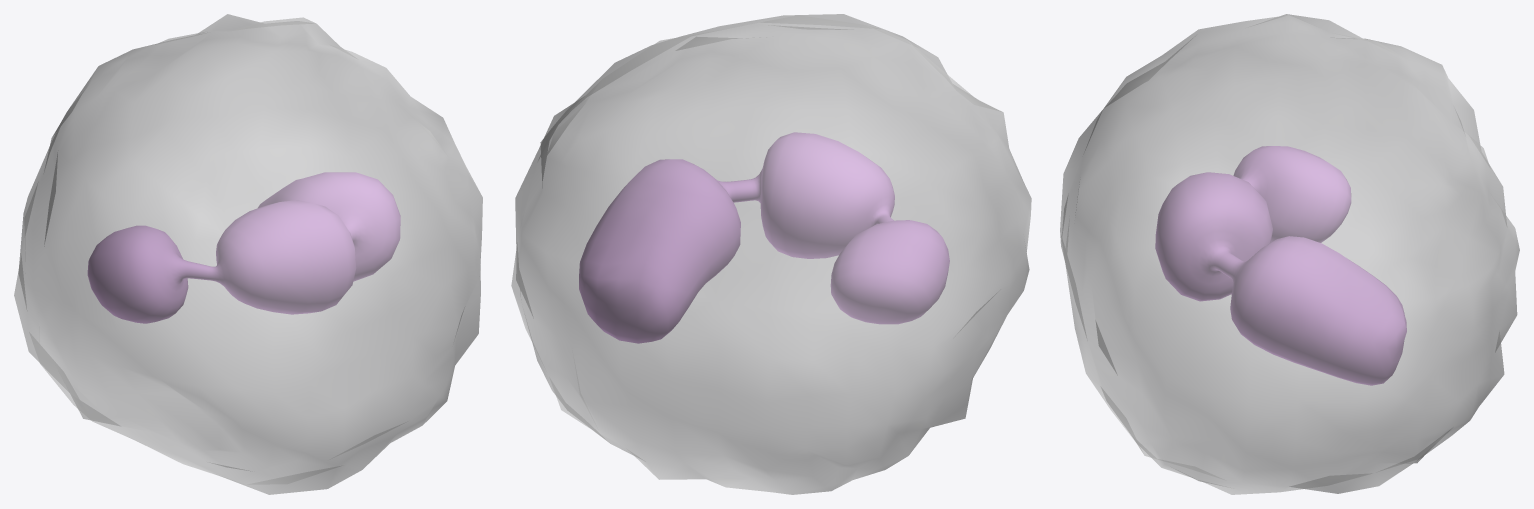
Rendered from immune_cell_neutrophil.fbx.
The picture shows the model from 3 angles, left to right: view 1: azimuth 30°, elevation 25°; view 2: azimuth 150°, elevation 25°; view 3: azimuth 270°, elevation 25°; orthographic projection. The views are drawn at different scales.
Parts seen in each view (by area): view 1: neutrophils; view 2: neutrophils; view 3: neutrophils.
Boxes of the visible parts, left/top/right/bottom form: neutrophils: left=14, top=14, right=482, bottom=494; neutrophils: left=511, top=14, right=1031, bottom=494; neutrophils: left=1060, top=14, right=1519, bottom=494.
Bounding box in the file's own units: 1103 × 1091 × 1063.
